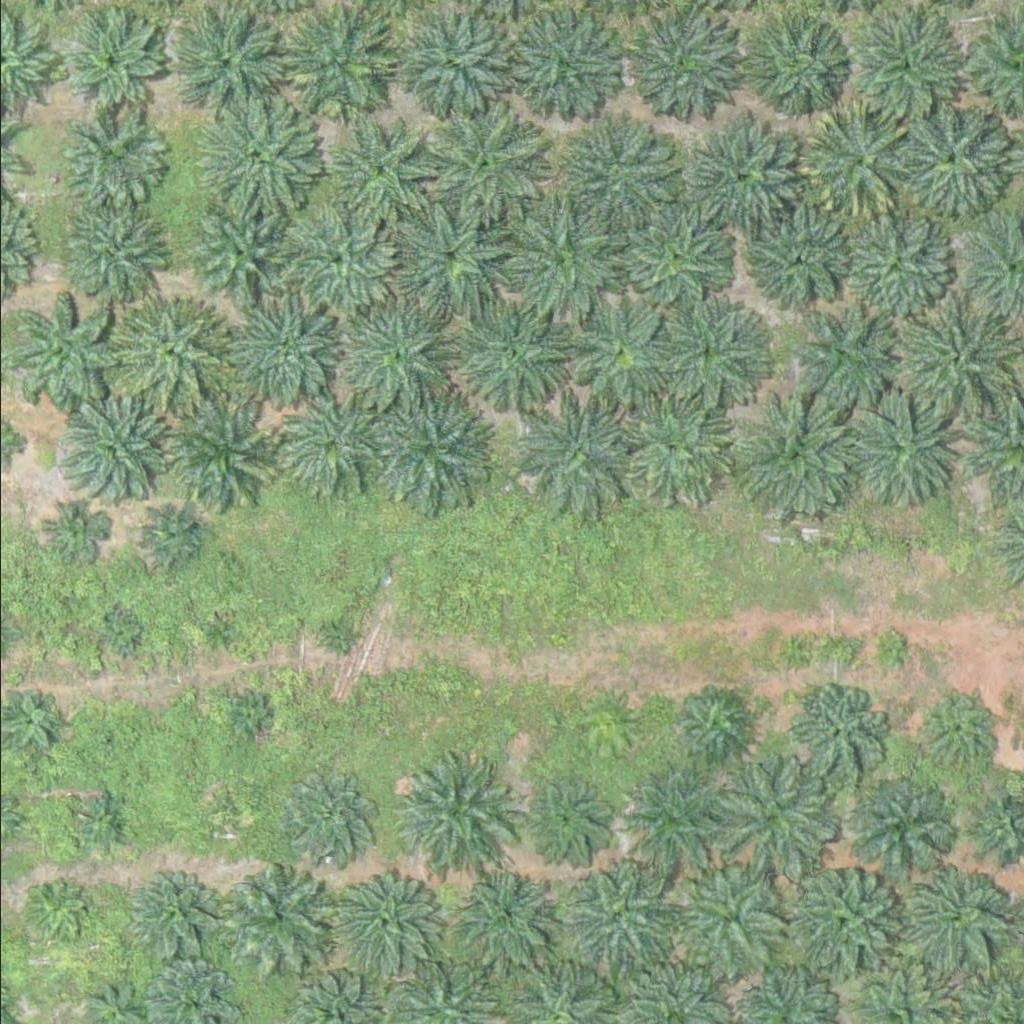Kelapa_Sawit: (834, 391, 960, 516), (738, 390, 864, 515), (886, 292, 1012, 417), (882, 94, 1008, 219), (712, 752, 838, 877), (646, 291, 772, 416), (610, 198, 736, 323), (608, 385, 734, 510), (618, 3, 744, 128), (500, 6, 626, 131), (274, 2, 400, 127), (158, 1, 284, 126), (418, 99, 544, 224), (550, 106, 676, 231), (678, 111, 804, 236), (487, 195, 613, 320), (384, 189, 510, 314), (262, 197, 388, 322), (211, 284, 337, 409), (325, 292, 451, 417), (446, 287, 572, 412), (508, 389, 634, 514), (363, 385, 489, 510), (143, 396, 269, 521), (392, 745, 518, 870), (786, 101, 911, 226), (844, 3, 969, 128), (388, 2, 513, 127), (192, 97, 317, 222), (782, 867, 895, 980), (898, 857, 1011, 970), (781, 298, 894, 411), (841, 210, 954, 323), (222, 856, 335, 969), (9, 298, 122, 411), (666, 865, 779, 977), (615, 766, 728, 878), (559, 861, 672, 973), (326, 863, 439, 975), (49, 395, 162, 507), (114, 299, 227, 411), (845, 777, 946, 877), (752, 205, 853, 305), (752, 15, 853, 115), (325, 122, 426, 222), (273, 396, 374, 496), (278, 766, 379, 866), (450, 869, 551, 969), (59, 203, 160, 303), (60, 102, 161, 202), (57, 12, 158, 112), (783, 681, 883, 781), (564, 303, 664, 403), (909, 688, 997, 776), (189, 207, 278, 294), (526, 778, 614, 865), (123, 875, 211, 962), (673, 687, 749, 762), (43, 497, 106, 560), (141, 507, 204, 570), (68, 790, 131, 853), (23, 881, 86, 943), (102, 612, 140, 650), (200, 616, 238, 654), (319, 617, 357, 655), (868, 631, 906, 668), (207, 802, 244, 840), (226, 698, 264, 735), (89, 729, 114, 754)
